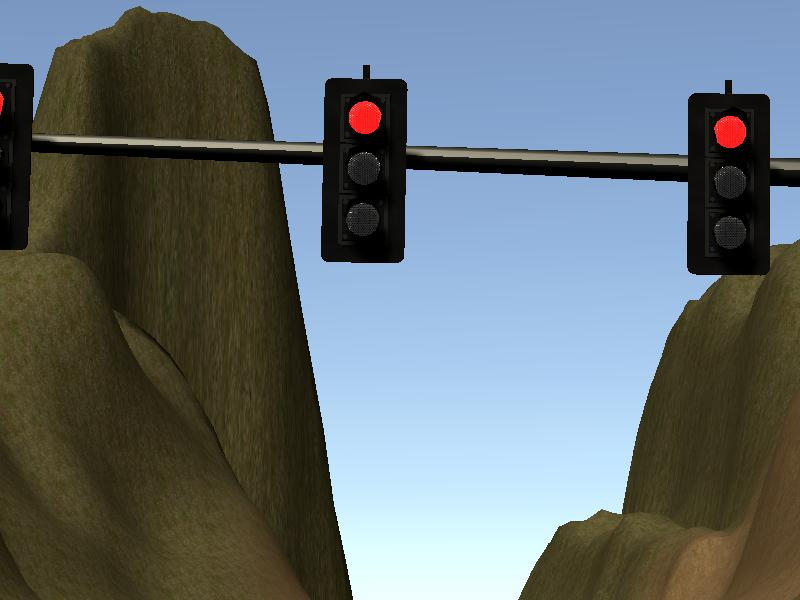Red: (323, 79, 404, 262), (690, 93, 769, 276), (1, 63, 33, 250)
